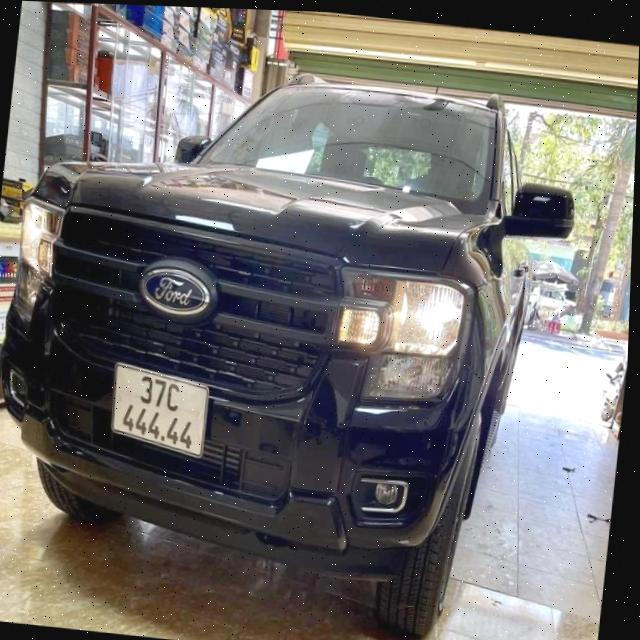car: (0, 38, 560, 609)
plate: (101, 361, 216, 461)
